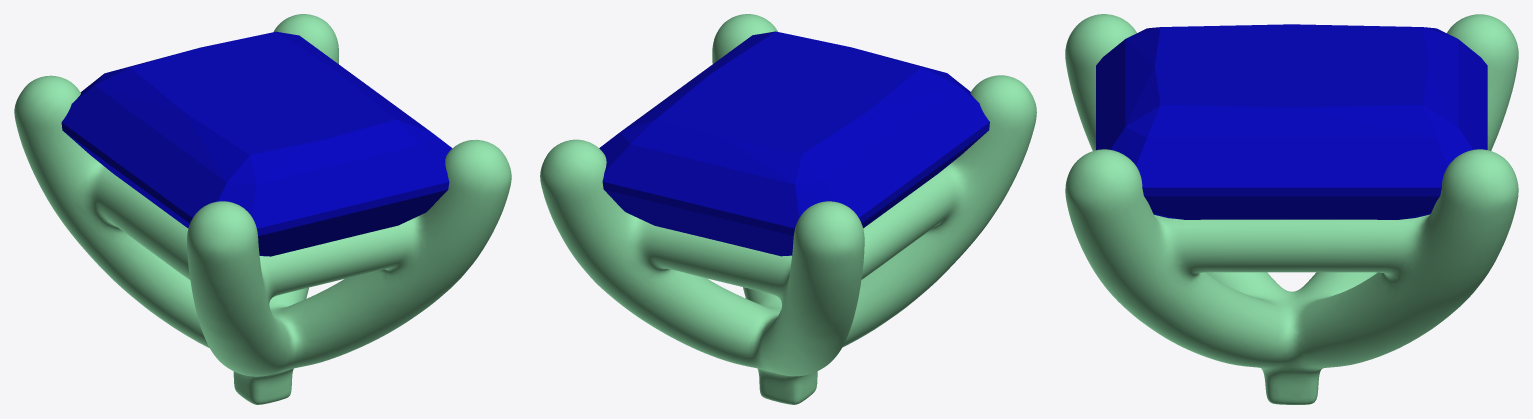
The model's file is Radiant.glb.
3 renders of one model, left to right at view 1: azimuth 30°, elevation 25°; view 2: azimuth 150°, elevation 25°; view 3: azimuth 270°, elevation 25°, orthographic. The views are drawn at different scales.
Parts seen in each view (by area): view 1: /GSMOD388300- 4 PRONG_RADIANT_IJ.3dm, Diamond_Radiant; view 2: /GSMOD388300- 4 PRONG_RADIANT_IJ.3dm, Diamond_Radiant; view 3: /GSMOD388300- 4 PRONG_RADIANT_IJ.3dm, Diamond_Radiant.
Part boxes in pixels (<box>): /GSMOD388300- 4 PRONG_RADIANT_IJ.3dm: <box>14,14,511,404</box>; Diamond_Radiant: <box>61,31,452,256</box>; /GSMOD388300- 4 PRONG_RADIANT_IJ.3dm: <box>540,14,1036,404</box>; Diamond_Radiant: <box>599,31,989,256</box>; /GSMOD388300- 4 PRONG_RADIANT_IJ.3dm: <box>1065,14,1518,404</box>; Diamond_Radiant: <box>1096,24,1487,219</box>.
Bounding box in the file's own units: 7.68 × 7.05 × 8.76.
